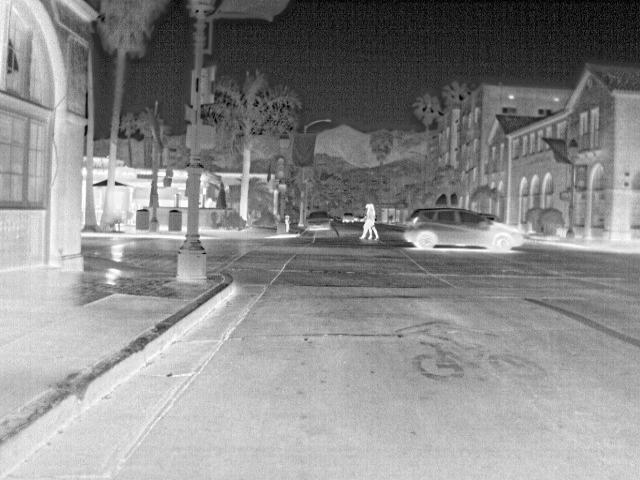car: (402, 206, 526, 252), (305, 211, 335, 231), (339, 211, 359, 223)
person: (357, 200, 379, 241)
